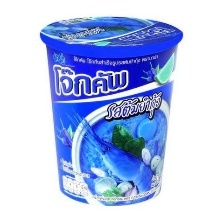paper_cup: (34, 10, 187, 210)
